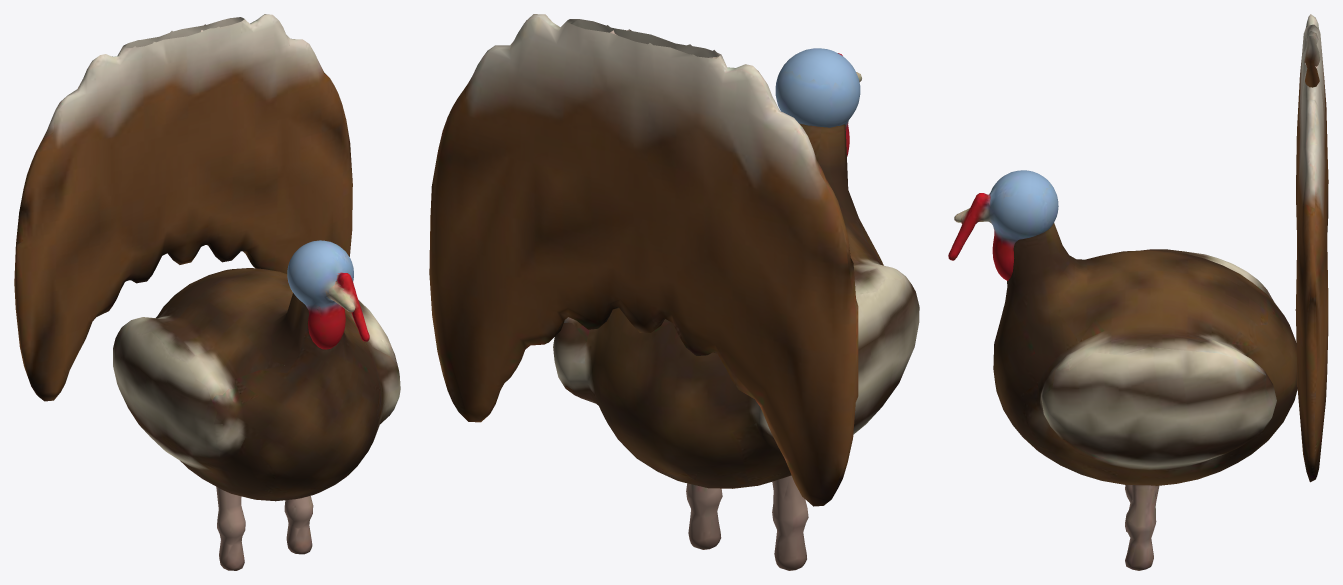
Rendered from animal_gobbler.glb.
3 views of the same model, side by side, from view 1: azimuth 30°, elevation 25°; view 2: azimuth 150°, elevation 25°; view 3: azimuth 270°, elevation 25° (orthographic). The views are drawn at different scales.
Visible parts, largest first — view 1: animal_gobbler, head, leg0, leg1; view 2: animal_gobbler, head, leg0, leg1; view 3: animal_gobbler, head, leg1.
Part boxes in pixels (x1,y1,x2,y2): animal_gobbler: (14, 14, 400, 501); head: (287, 240, 369, 349); leg0: (216, 487, 245, 570); leg1: (284, 496, 313, 554); animal_gobbler: (429, 14, 919, 506); head: (775, 48, 861, 156); leg0: (772, 475, 808, 570); leg1: (686, 483, 722, 549); animal_gobbler: (993, 14, 1328, 485); head: (948, 170, 1058, 280); leg1: (1125, 485, 1159, 570).
Bounding box in the file's own units: 0.3482 × 0.4656 × 0.3223.
1 material, 1 textured.
